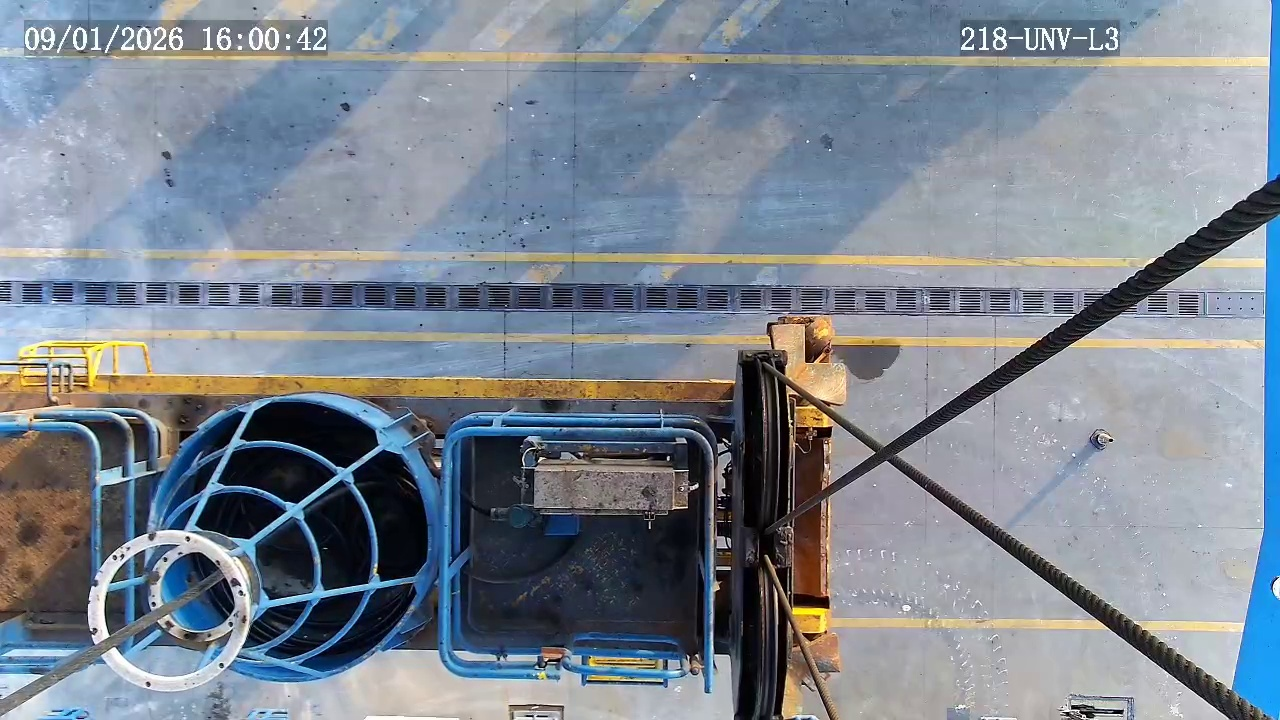right: (143, 398, 433, 682)
